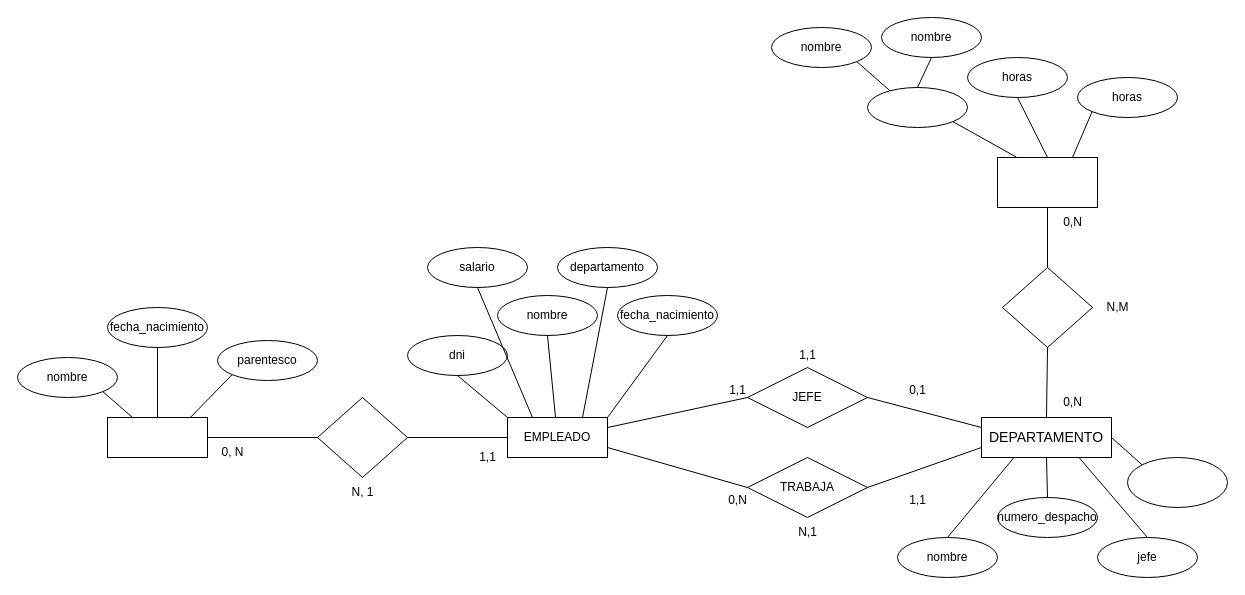
The diagram is 1245 pixels wide and 595 high, and some of its shapes have lost their labels. The shapes that lost their labels are listed below. From the top down, each one's centre as x and y in pixels, then its label:
(917,107): codigo
(1047,182): PROYECTO
(1047,307): ASIGNADO
(157,437): FAMILIA
(362,437): TIENE
(1177,482): fecha
